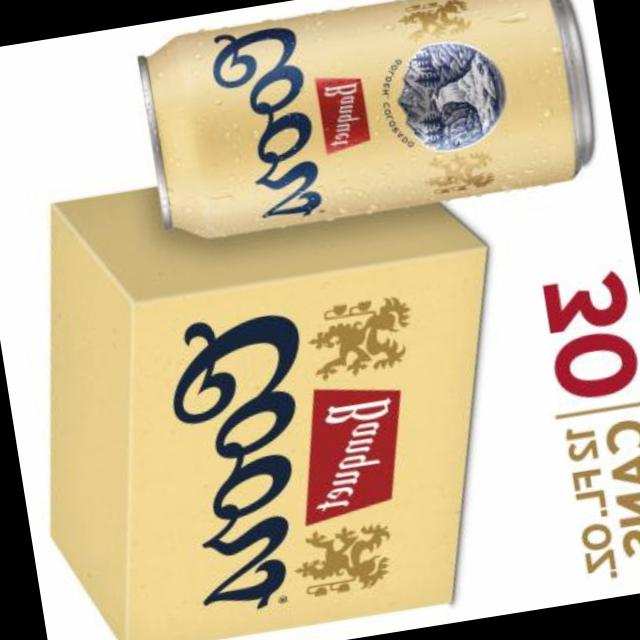metal: (135, 0, 588, 235)
